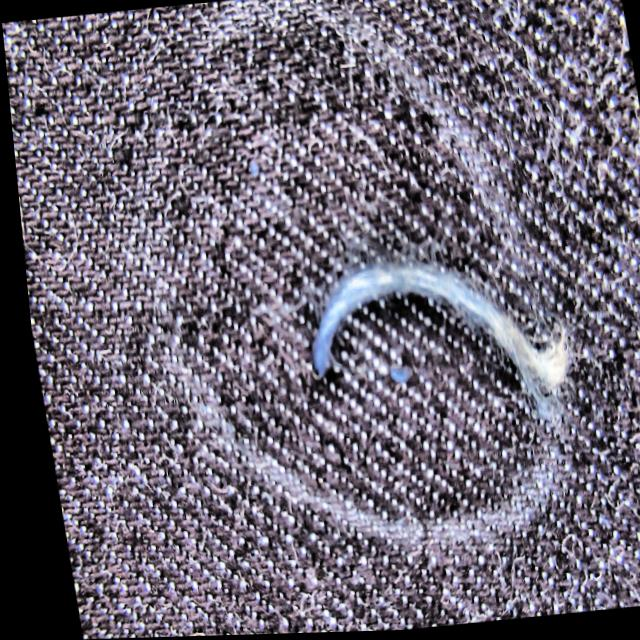Stitch: (231, 157, 612, 506)
